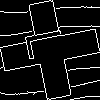L: (25, 25, 75, 61)
